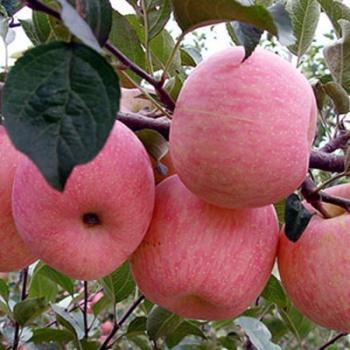apple: (169, 40, 319, 209), (11, 117, 158, 284), (134, 174, 282, 321), (278, 181, 350, 335)
